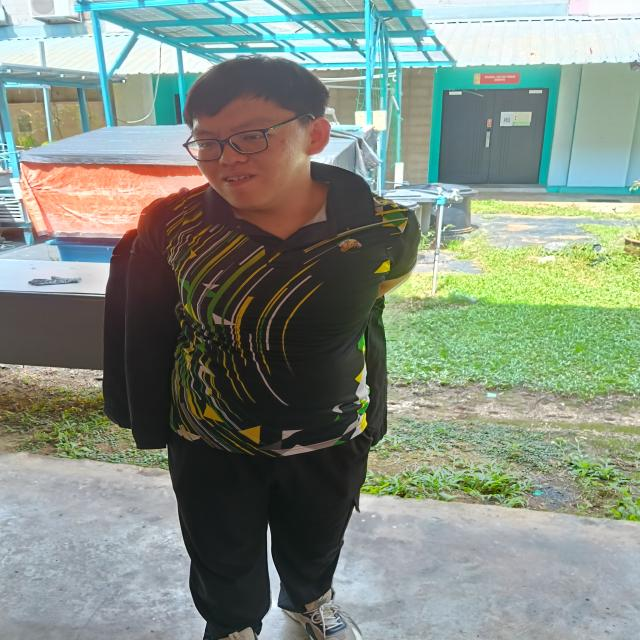person_without_labcoat: (105, 56, 419, 640)
